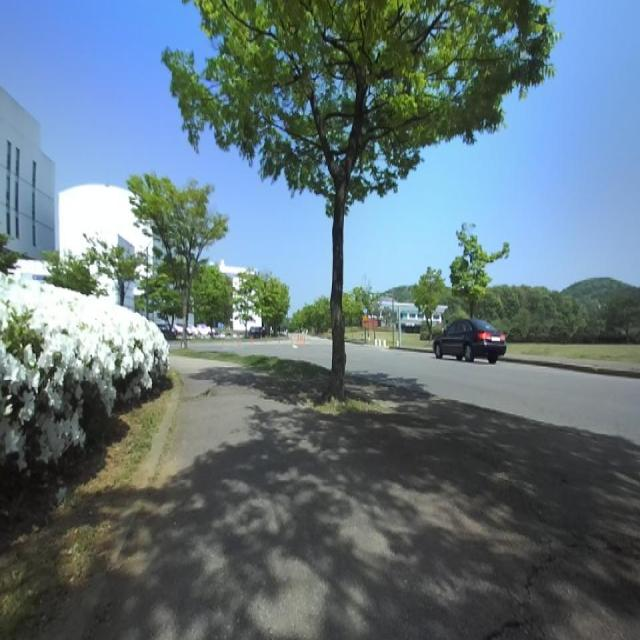sidewalk: (59, 356, 640, 640)
